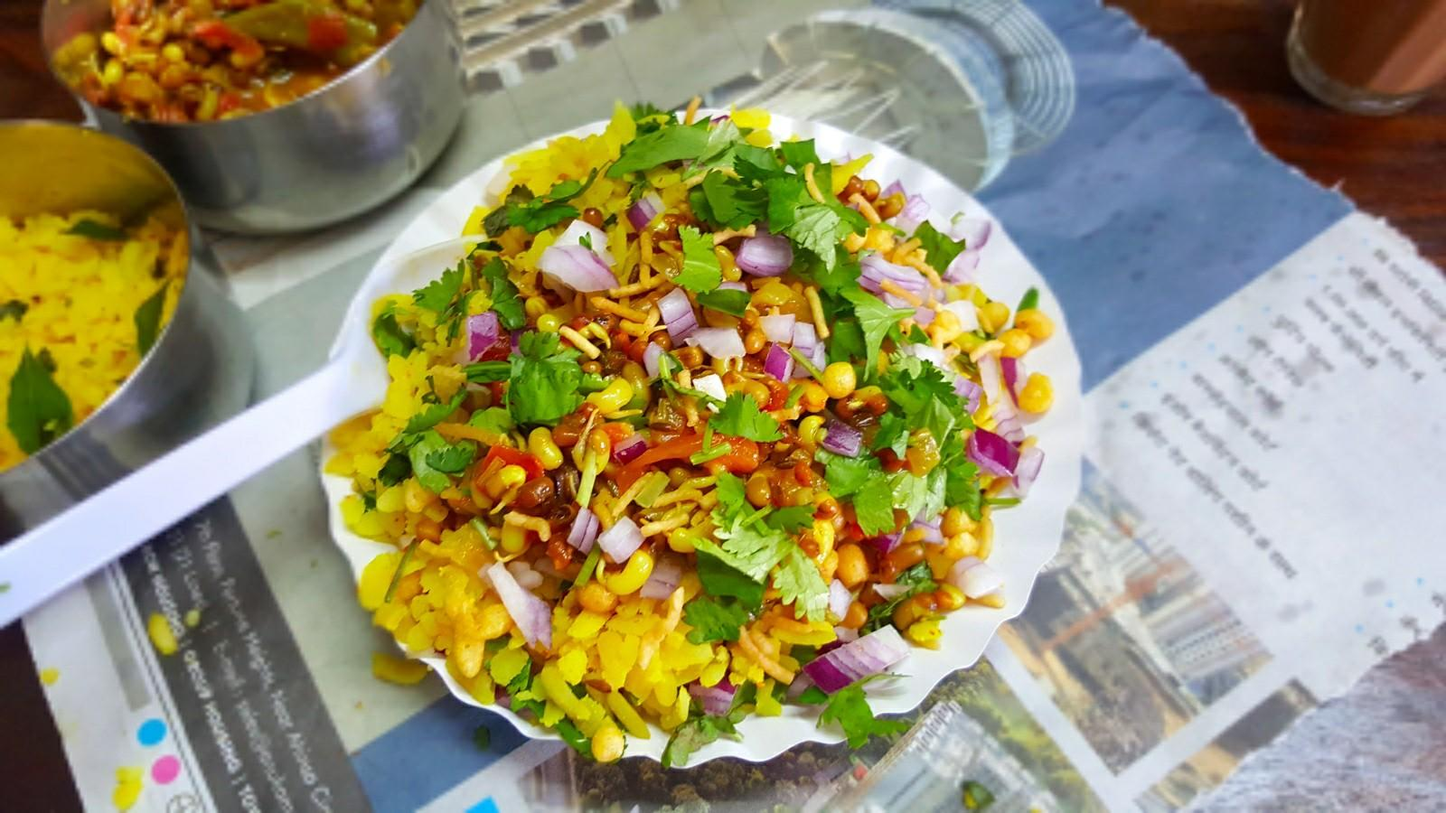Poha: (344, 94, 1059, 745)
